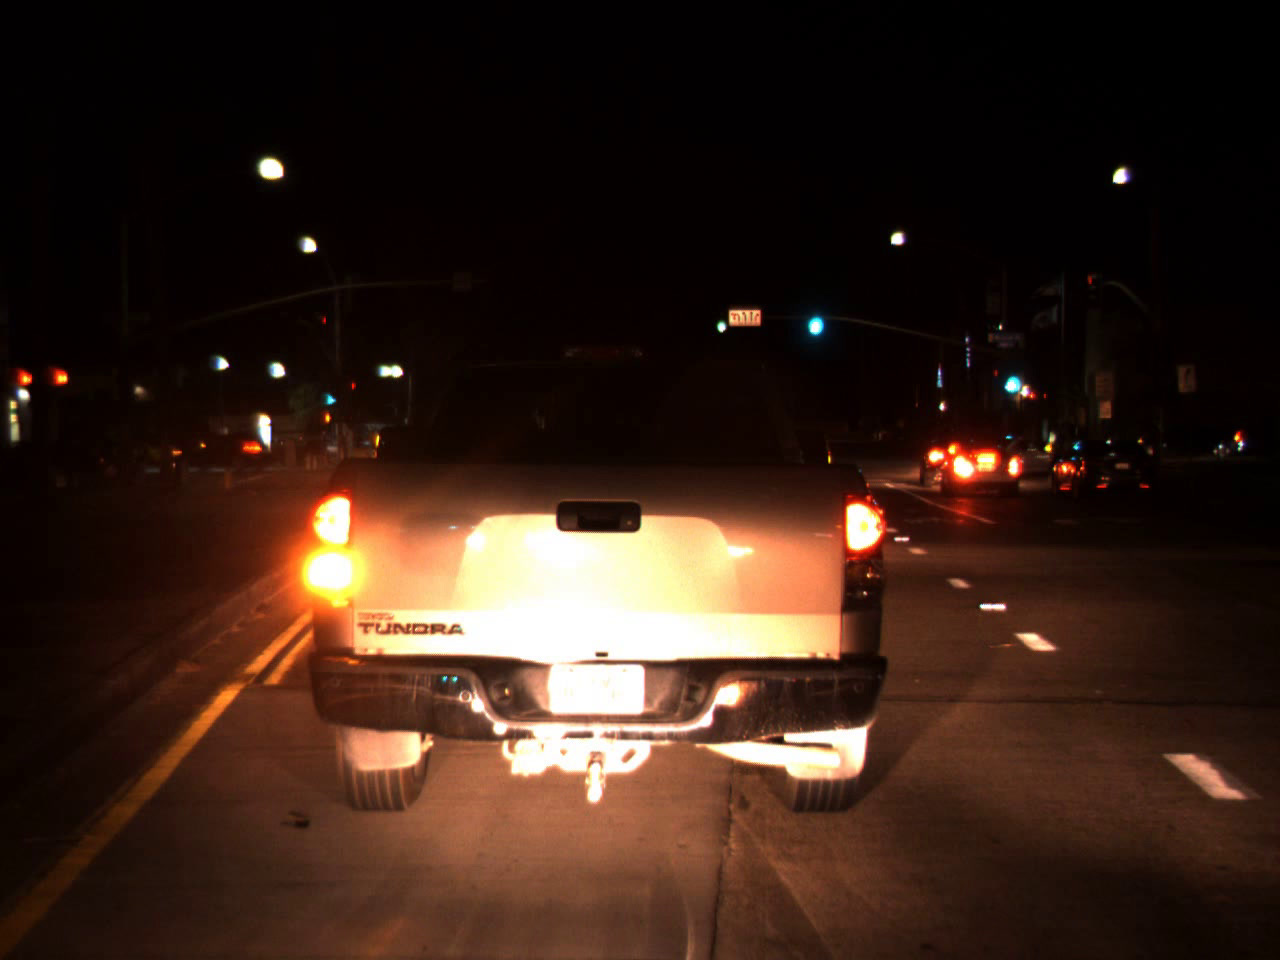go: (997, 354, 1024, 399), (802, 294, 825, 342), (712, 306, 728, 336), (322, 382, 338, 409)
